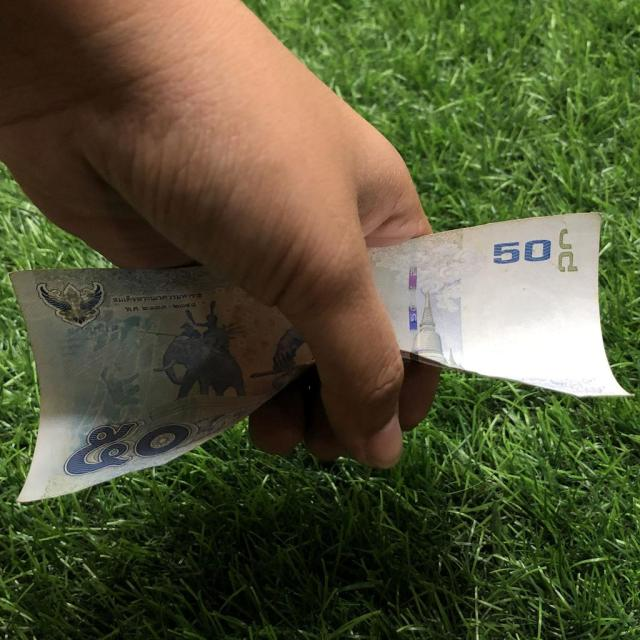THAI50: (11, 268, 314, 501), (369, 214, 629, 397)
